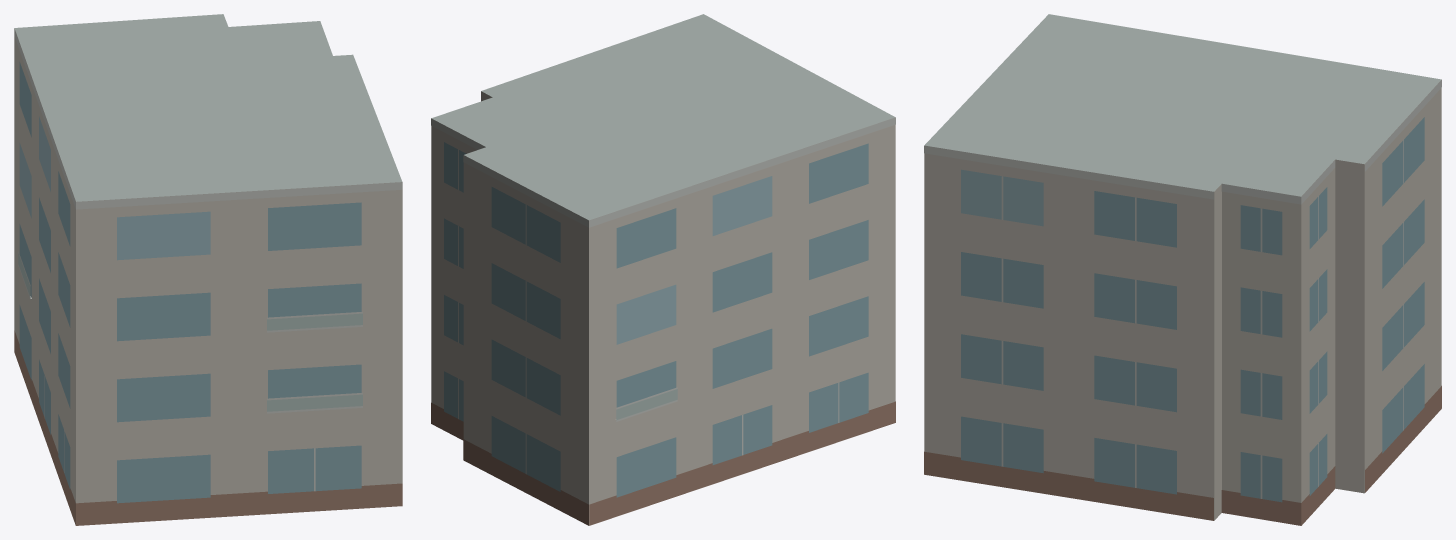
Rendered from survey-upis-32653711.glb.
3 renders of one model, left to right at view 1: azimuth 30°, elevation 25°; view 2: azimuth 150°, elevation 25°; view 3: azimuth 270°, elevation 25°, orthographic. The views are drawn at different scales.
Visible parts, largest first — view 1: survey-upis-32653711.tmp; view 2: survey-upis-32653711.tmp; view 3: survey-upis-32653711.tmp.
Part boxes in pixels (bbox=[...]): survey-upis-32653711.tmp: bbox=[14, 14, 402, 525]; survey-upis-32653711.tmp: bbox=[431, 14, 895, 525]; survey-upis-32653711.tmp: bbox=[924, 14, 1441, 525].
Bounding box in the file's own units: 12.15 × 10.2 × 14.55.
